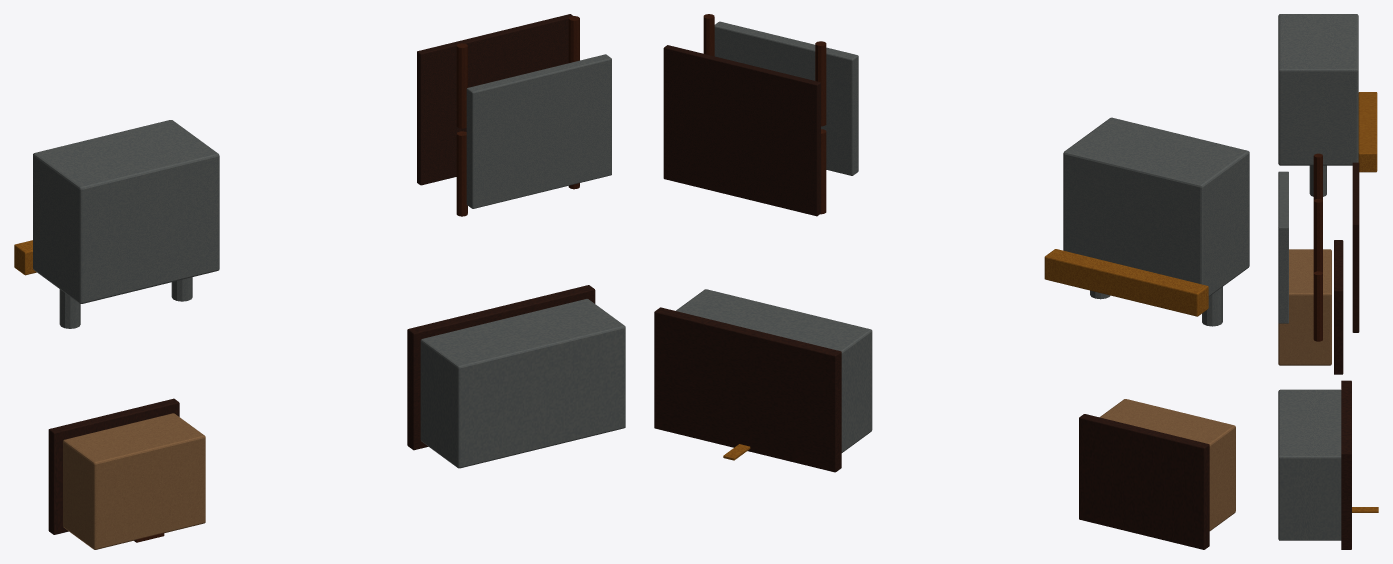
File: EraBuildingKit_Textured.fbx
The picture shows the model from 3 angles, left to right: view 1: azimuth 30°, elevation 25°; view 2: azimuth 150°, elevation 25°; view 3: azimuth 270°, elevation 25°; orthographic projection. The views are drawn at different scales.
Parts seen in each view (by area): view 1: TempleBody, BarracksBody, MarketPlatform, HouseBody, MarketAwning, BarracksRoof, HouseRoof, MarketPost.001, MarketPost; view 2: TempleBody, BarracksRoof, MarketAwning, HouseRoof, BarracksBody, MarketPlatform, TemplePediment, HouseBody, MarketPost.001; view 3: TempleBody, BarracksBody, HouseBody, BarracksRoof, MarketPlatform, TemplePediment, MarketAwning, HouseRoof, MarketPost.002, MarketPost.003, MarketPost.001, TempleColumn.001 (+1 smaller).
Boxes of the visible parts, box(x1,y1,x2,y2) form: TempleBody: box(33, 120, 219, 303); BarracksBody: box(420, 299, 625, 468); MarketPlatform: box(466, 54, 611, 208); HouseBody: box(63, 413, 205, 549); MarketAwning: box(417, 14, 572, 185); BarracksRoof: box(407, 285, 595, 450); HouseRoof: box(48, 398, 179, 534); MarketPost.001: box(456, 43, 467, 128); MarketPost: box(456, 131, 467, 216); TempleBody: box(1063, 117, 1249, 296); BarracksRoof: box(654, 307, 841, 472); MarketAwning: box(663, 45, 820, 216); HouseRoof: box(1079, 414, 1209, 549); BarracksBody: box(676, 289, 872, 452); MarketPlatform: box(714, 21, 858, 175); TemplePediment: box(1044, 249, 1208, 316); HouseBody: box(1100, 399, 1235, 530); MarketPost.001: box(815, 41, 826, 126); TempleBody: box(1278, 14, 1358, 165); BarracksBody: box(1278, 389, 1341, 540); HouseBody: box(1278, 249, 1331, 365); BarracksRoof: box(1341, 380, 1351, 549); MarketPlatform: box(1278, 171, 1288, 323); TemplePediment: box(1358, 92, 1377, 172); MarketAwning: box(1352, 162, 1359, 332); HouseRoof: box(1334, 240, 1343, 374); MarketPost.002: box(1313, 271, 1322, 341); MarketPost.003: box(1313, 199, 1322, 268); MarketPost.001: box(1313, 153, 1322, 200); TempleColumn.001: box(1309, 165, 1326, 196).
Bounding box in the file's own units: 40 × 27.75 × 7.5.
Materials: 5 (5 with a texture image).
